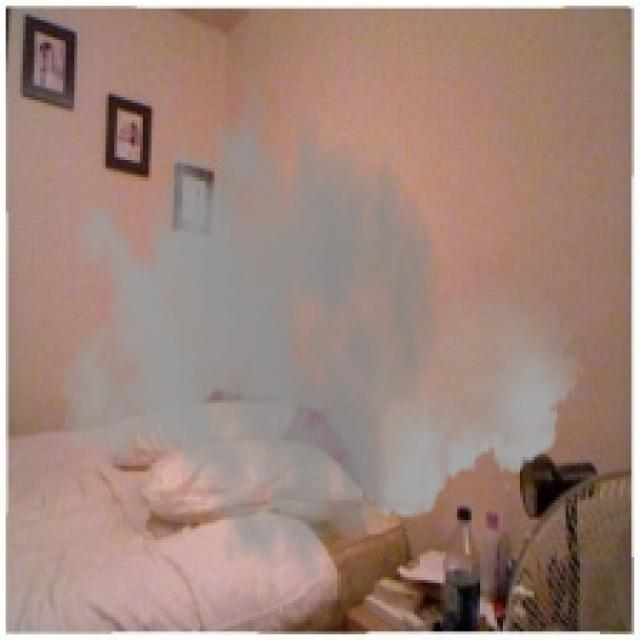smoke: (57, 57, 586, 586)
